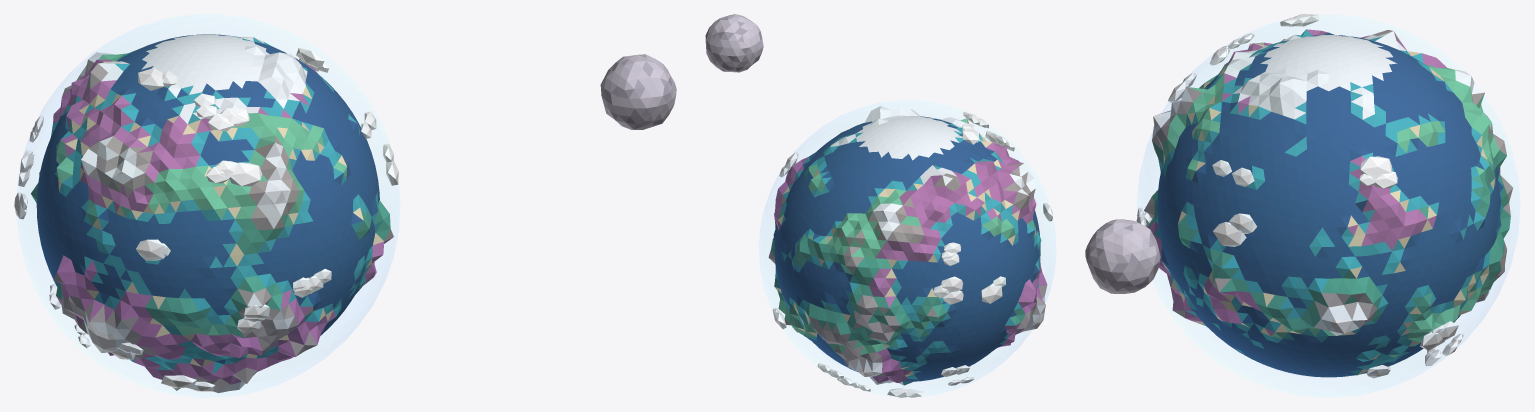
Rendered from HabitablePlanet.fbx.
3 renders of one model, left to right at view 1: azimuth 30°, elevation 25°; view 2: azimuth 150°, elevation 25°; view 3: azimuth 270°, elevation 25°, orthographic. The views are drawn at different scales.
Visible parts, largest first — view 1: HabitablePlanet, Planet_Atmosphere, Planet_Clouds, Planet_Moon; view 2: HabitablePlanet, Planet_Atmosphere, Planet_Clouds, Planet_Moon; view 3: HabitablePlanet, Planet_Atmosphere, Planet_Clouds, Planet_Moon.
Boxes of the visible parts, x1,y1,x2,y2 form: HabitablePlanet: [31, 34, 393, 392]; Planet_Atmosphere: [17, 14, 399, 397]; Planet_Clouds: [14, 48, 398, 391]; Planet_Moon: [600, 54, 676, 129]; HabitablePlanet: [768, 106, 1047, 385]; Planet_Atmosphere: [759, 100, 1055, 397]; Planet_Clouds: [772, 111, 1052, 397]; Planet_Moon: [705, 14, 763, 72]; HabitablePlanet: [1144, 29, 1512, 377]; Planet_Atmosphere: [1137, 14, 1520, 397]; Planet_Clouds: [1136, 14, 1463, 378]; Planet_Moon: [1085, 219, 1160, 293].
Bounding box in the file's own units: 35.4 × 22.4 × 25.4.
